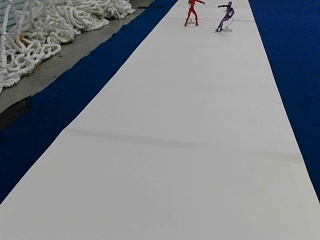pedestrian: (215, 1, 234, 31), (183, 0, 204, 26)
